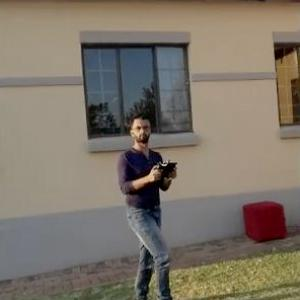follow: (116, 107, 190, 299)
